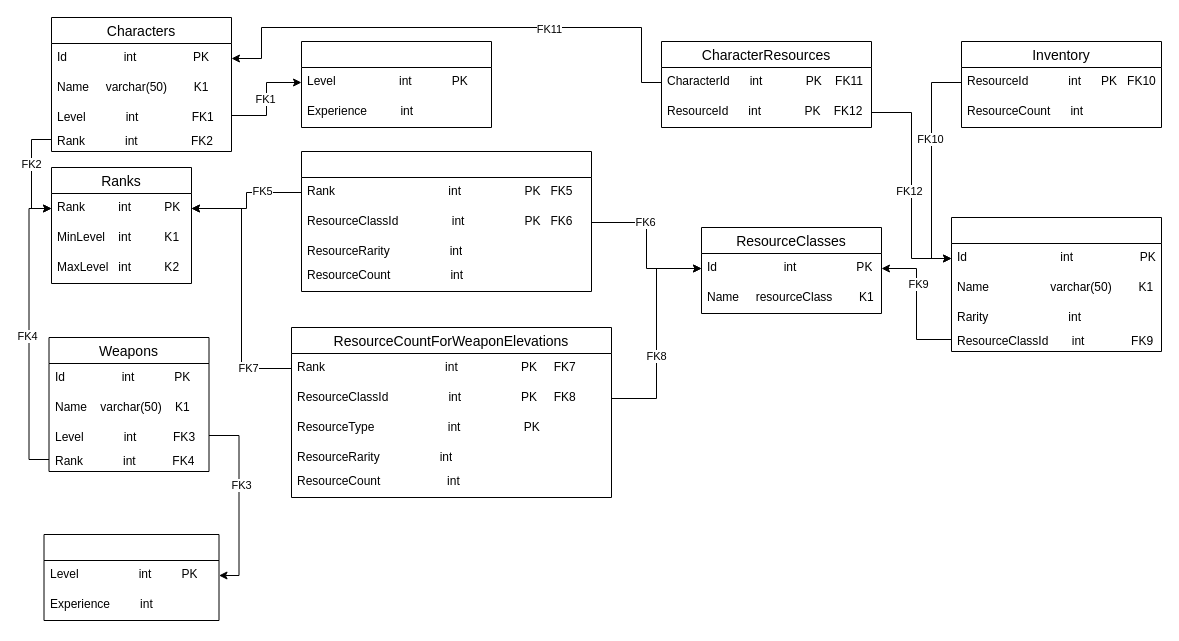
Some shapes in this 1179 by 641 pixel diagram are drawn without their labels. The shapes that lost their labels are listed below. From the top down, each one's box as (x1, y1, x2, y2) in pixels, then its label:
(300, 40, 492, 128): CharacterLevels
(300, 150, 592, 292): ResourceCountForCharacterElevations
(950, 216, 1162, 352): Resources
(43, 534, 219, 620): WeaponLevels
